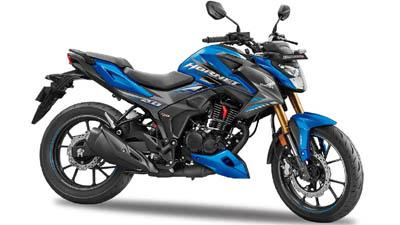motorbike: (31, 1, 363, 223)
